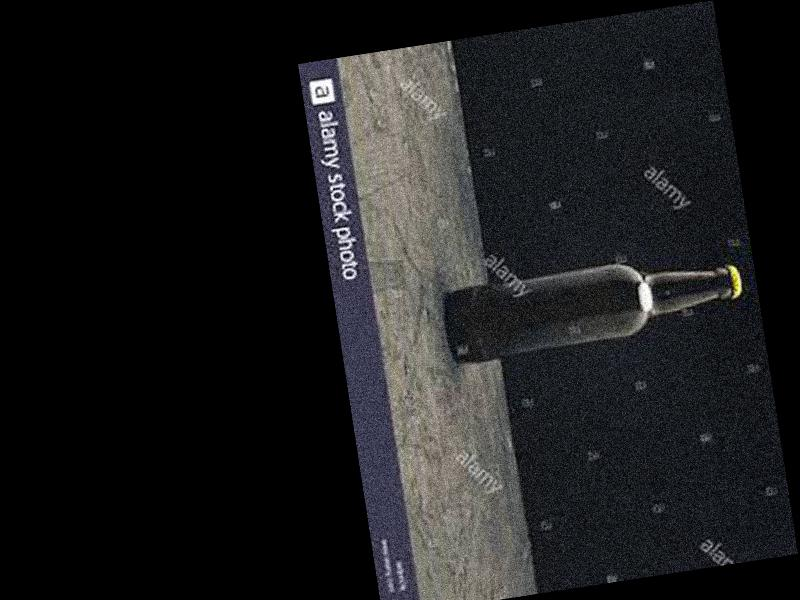Beer: (444, 252, 746, 364)
